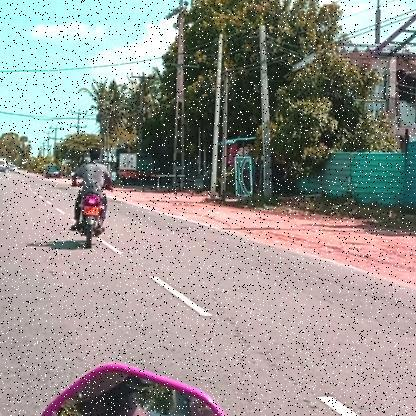motorcycle: (68, 190, 110, 250)
